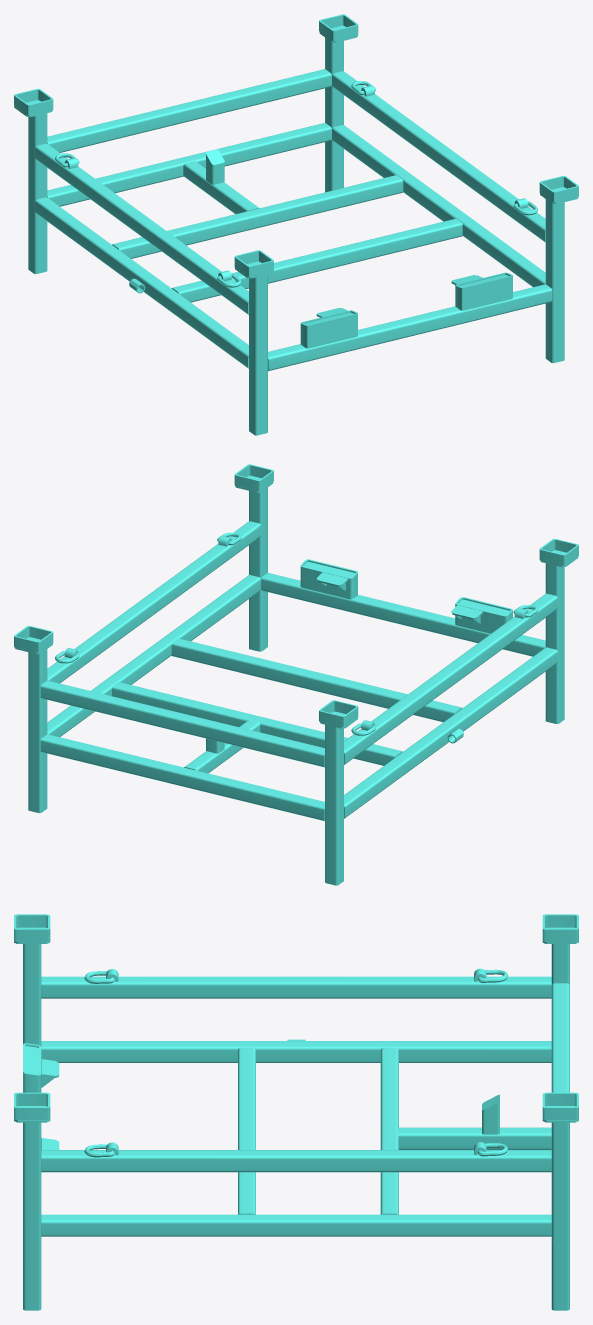
The model's file is SM_ShippingContainer_Fixtures_04.fbx.
3 renders of one model, top to bottom at view 1: azimuth 30°, elevation 25°; view 2: azimuth 150°, elevation 25°; view 3: azimuth 270°, elevation 25°, orthographic. The views are drawn at different scales.
Visible parts, largest first — view 1: Cube.003; view 2: Cube.003; view 3: Cube.003.
Part boxes in pixels (bbox=[...]): Cube.003: bbox=[14, 14, 578, 435]; Cube.003: bbox=[14, 464, 578, 885]; Cube.003: bbox=[14, 914, 578, 1310].
Bounding box in the file's own units: 128 × 64.45 × 158.
